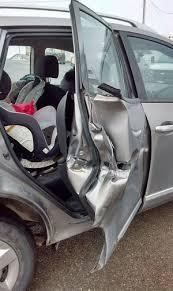doorouter-dent: (57, 41, 152, 223)
